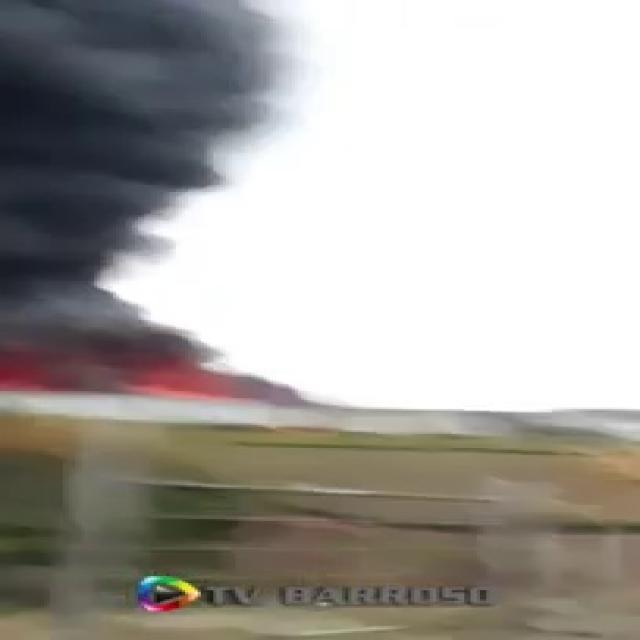Smoke: (0, 0, 289, 391), (0, 338, 314, 402)
